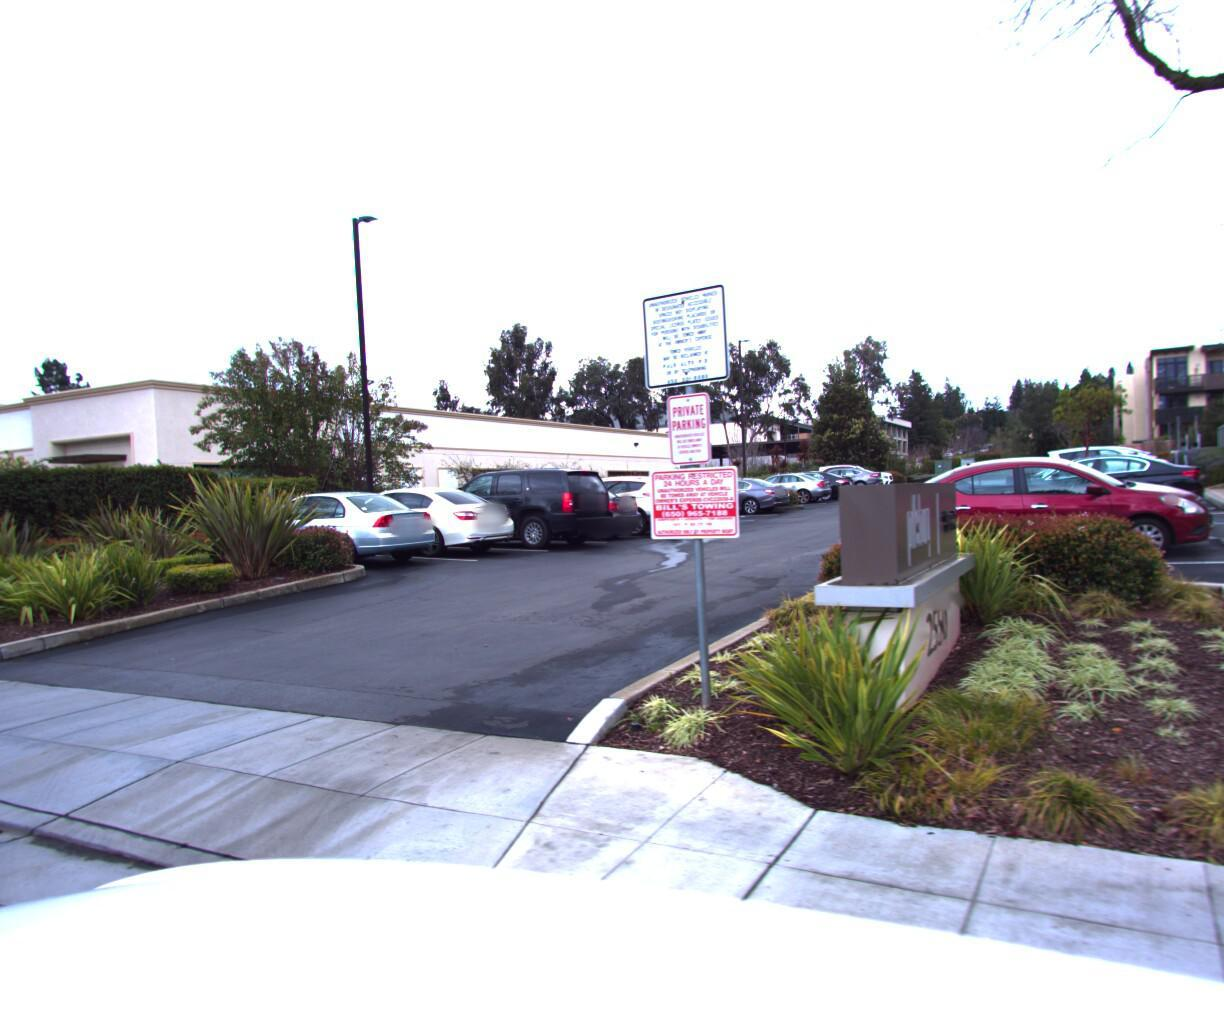car: (224, 491, 445, 573)
